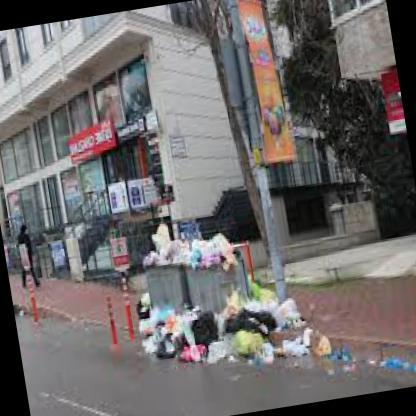Garbage: (188, 284, 310, 374), (138, 210, 236, 278), (136, 306, 198, 355), (225, 327, 268, 373), (219, 302, 279, 334), (166, 342, 226, 367), (371, 353, 415, 386), (247, 277, 278, 313), (326, 346, 360, 378), (272, 296, 304, 327), (206, 232, 233, 266), (149, 222, 175, 257), (166, 233, 192, 266), (187, 234, 207, 276), (194, 314, 218, 349), (134, 332, 161, 363), (148, 225, 173, 257), (186, 230, 210, 262), (210, 229, 234, 259), (308, 332, 332, 353), (171, 314, 188, 336)
